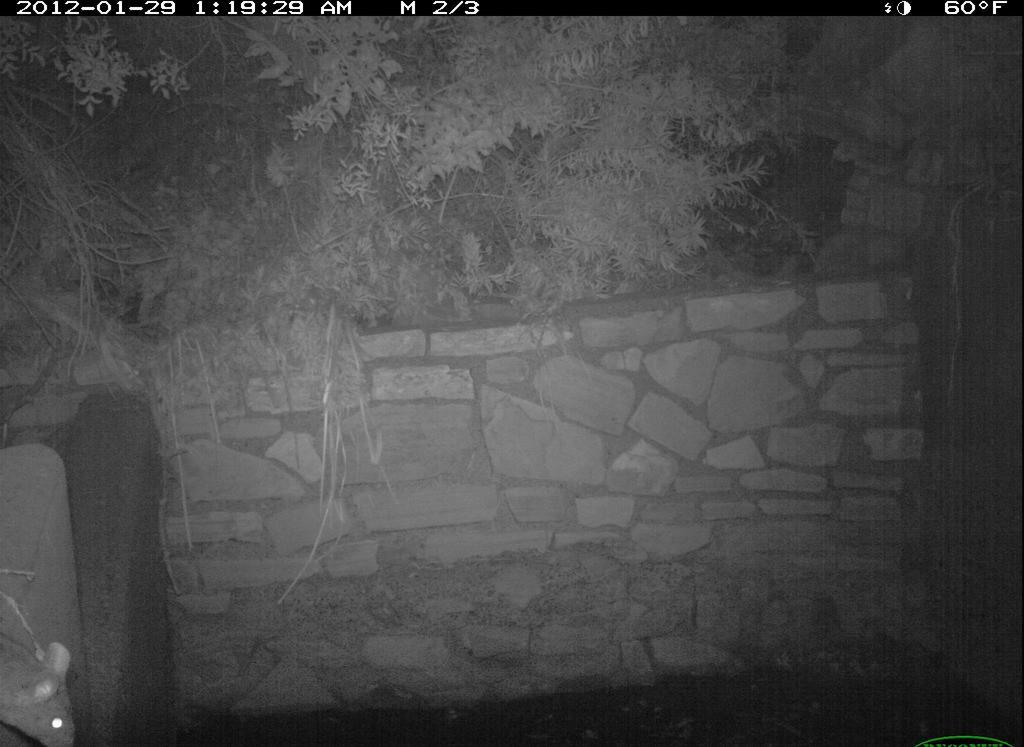rodent: (3, 624, 88, 747)
